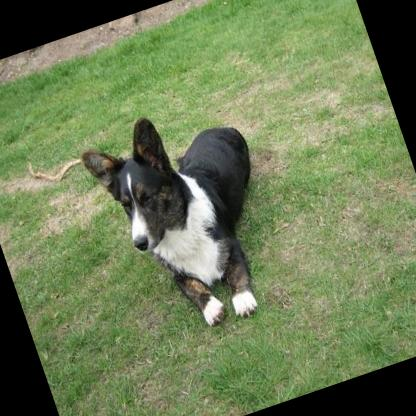Cardigan: (74, 86, 301, 353)
